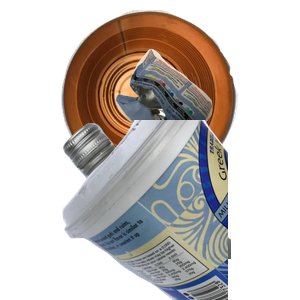glass: (60, 120, 300, 300)
metal: (58, 10, 289, 186)
plastic: (60, 120, 300, 300)
trash: (113, 46, 300, 189)
